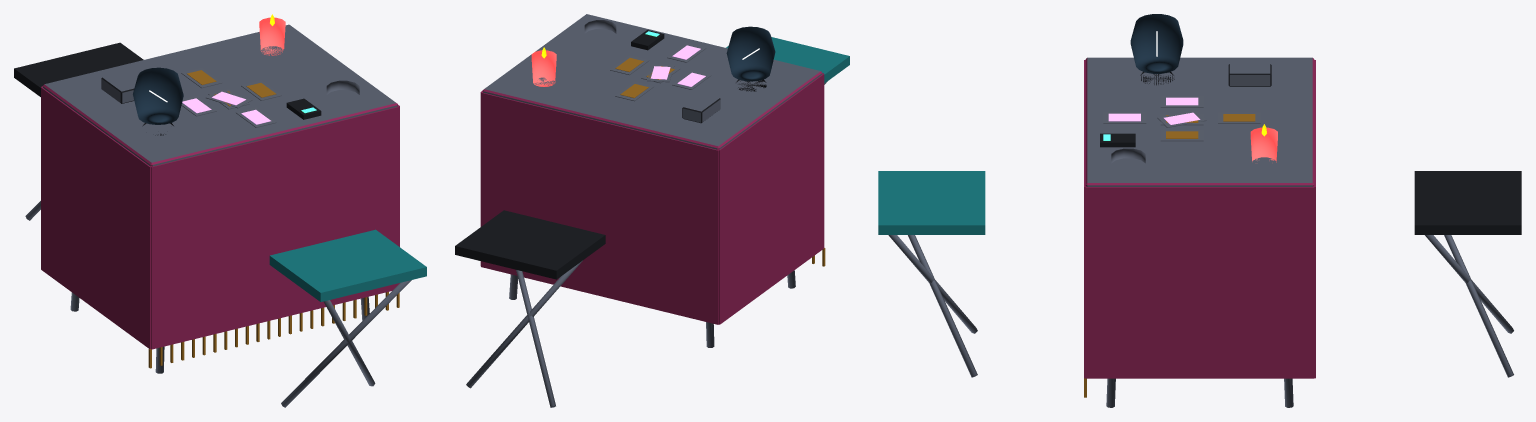
File: room-detail-dworzec-props.glb
3 renders of one model, left to right at view 1: azimuth 30°, elevation 25°; view 2: azimuth 150°, elevation 25°; view 3: azimuth 270°, elevation 25°, orthographic. The views are drawn at different scales.
Parts seen in each view (by area): view 1: rd-dw-kiku; view 2: rd-dw-kiku; view 3: rd-dw-kiku.
Part boxes in pixels (x1,y1,x2,y2): rd-dw-kiku: (14, 14, 426, 407); rd-dw-kiku: (455, 14, 849, 407); rd-dw-kiku: (878, 14, 1521, 407).
Size of the model in its own units: 0.8495 by 0.9103 by 1.8.
1 material, 1 textured.
